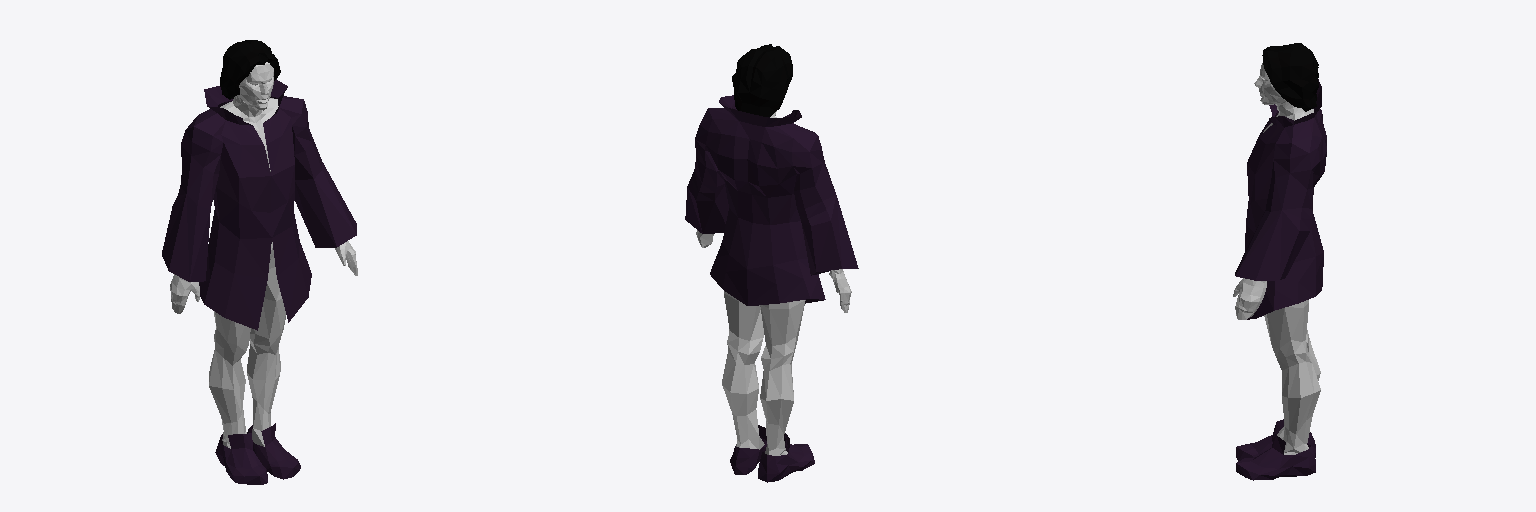
Rendered from human_male_1.obj.
3 views of the same model, side by side, from view 1: azimuth 30°, elevation 25°; view 2: azimuth 150°, elevation 25°; view 3: azimuth 270°, elevation 25° (orthographic).
Parts seen in each view (by area): view 1: suite_Plane.015, Plane.001_Plane.016, capelli1_Plane.014; view 2: suite_Plane.015, Plane.001_Plane.016, capelli1_Plane.014; view 3: suite_Plane.015, Plane.001_Plane.016, capelli1_Plane.014.
Part boxes in pixels (x1,y1,x2,y2): suite_Plane.015: (162, 79, 356, 484); Plane.001_Plane.016: (170, 62, 357, 448); capelli1_Plane.014: (220, 40, 280, 99); suite_Plane.015: (685, 95, 858, 482); Plane.001_Plane.016: (696, 111, 851, 455); capelli1_Plane.014: (732, 44, 792, 116); suite_Plane.015: (1235, 79, 1326, 480); Plane.001_Plane.016: (1233, 63, 1320, 454); capelli1_Plane.014: (1262, 43, 1318, 111).
Bounding box in the file's own units: 0.8523 × 1.92 × 0.3933.